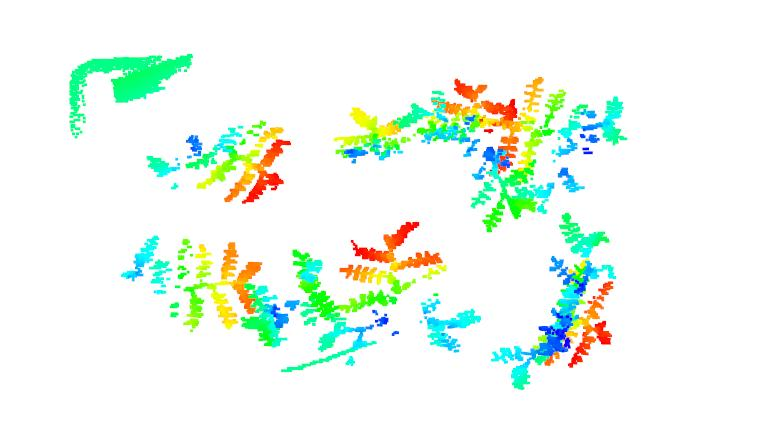chickpea: (487, 210, 617, 389), (336, 225, 481, 352), (430, 74, 534, 242), (112, 231, 259, 335), (141, 110, 293, 207), (241, 249, 366, 363), (499, 89, 631, 175), (324, 102, 426, 167)
